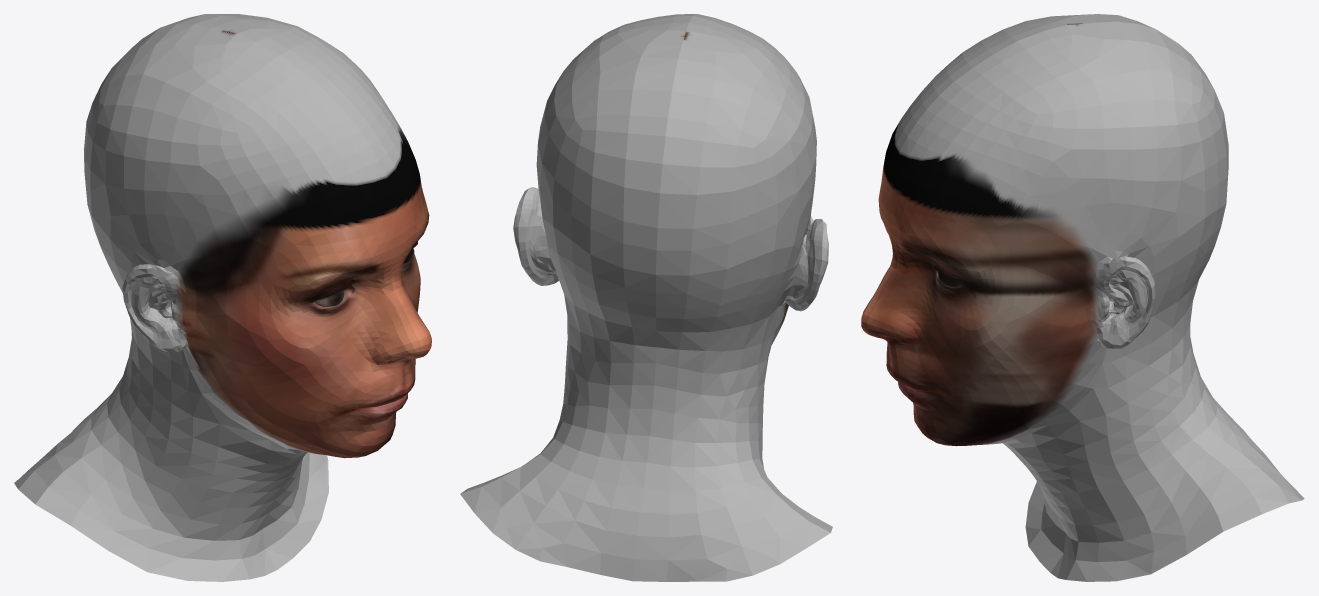
The model's file is id04657-PPHljWCZ53c-000565_inputs_inputs.obj.
3 renders of one model, left to right at view 1: azimuth 30°, elevation 25°; view 2: azimuth 150°, elevation 25°; view 3: azimuth 270°, elevation 25°, orthographic.
Size of the model in its own units: 0.203 by 0.3288 by 0.2481.
Materials: 1 (1 with a texture image).
